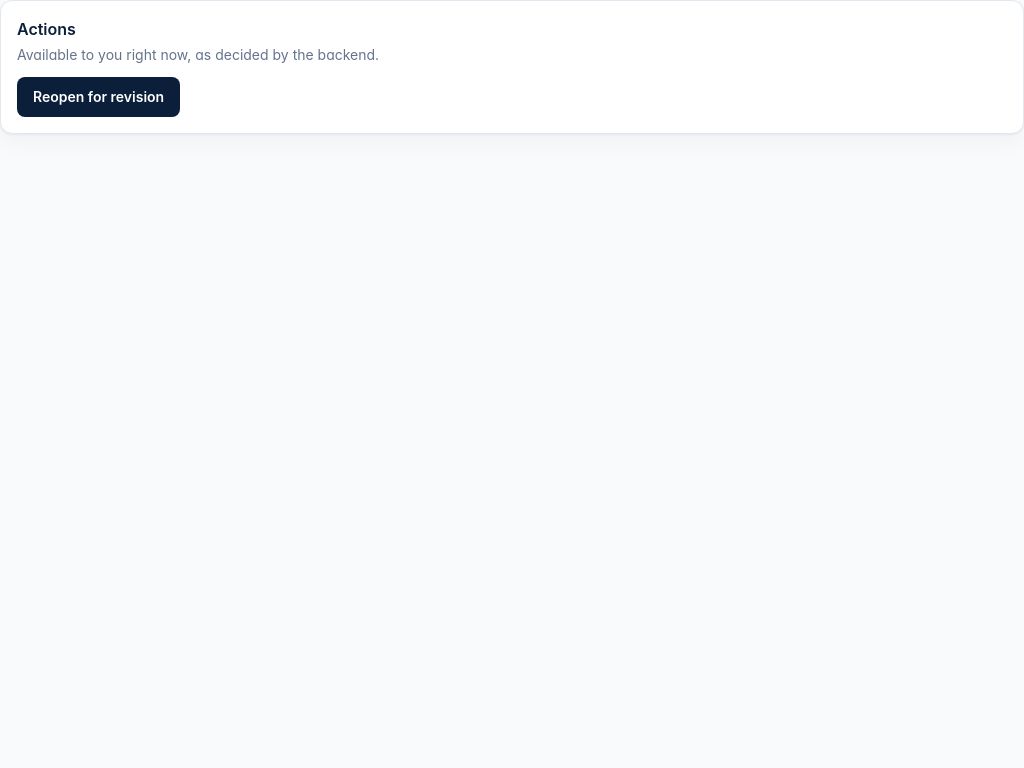
Test: ActionBar › requires a reason to reopen a rejected proposal and preserves the backend result
Later steps or results of the test are not shown.
Click the button "Reopen for revision" at (99,97), box [17,77,180,117]
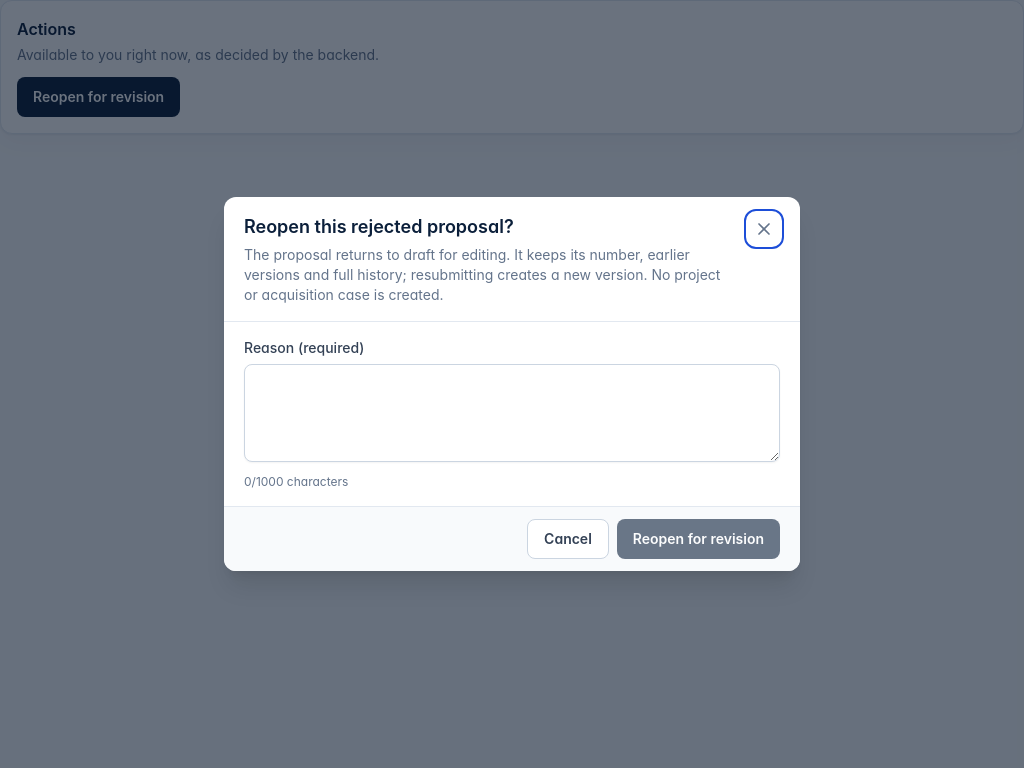
expect the button "Reopen for revision" is disabled: met, box [617,519,780,559]
expect the text "keeps its number" is shown: met, box [244,246,720,303]
Type "Corrected survey numbers are available." into the text box labelled "Reason (required)" at (512,413), box [244,364,780,462]
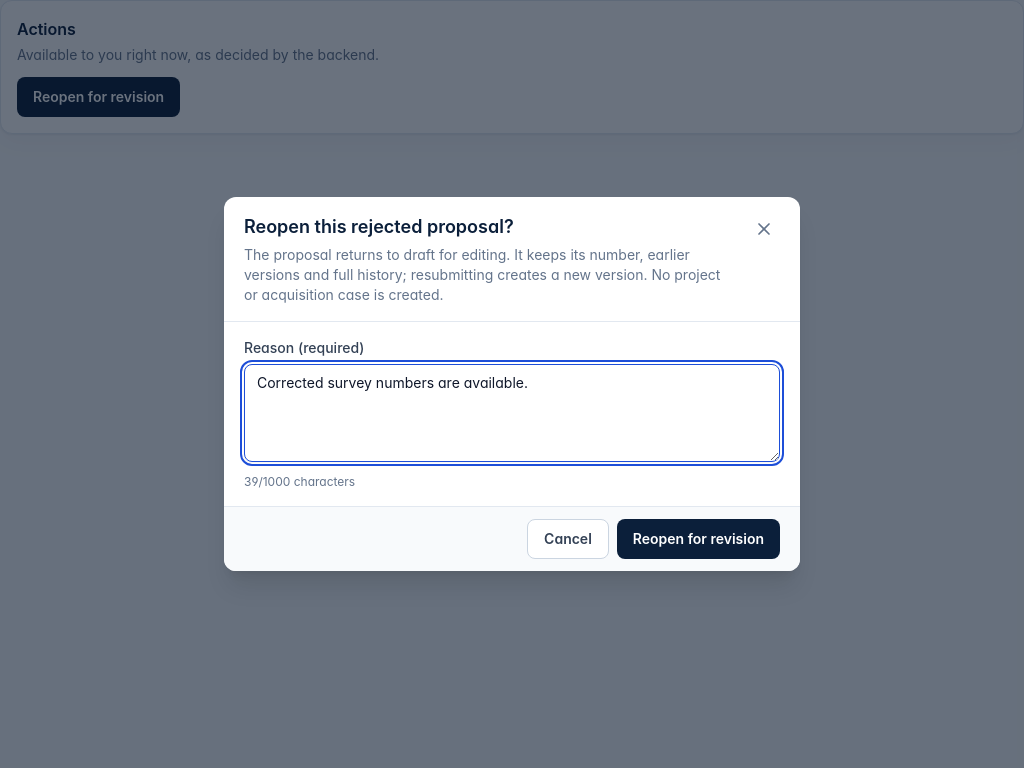
expect the button "Reopen for revision" is enabled: met, box [617,519,780,559]
